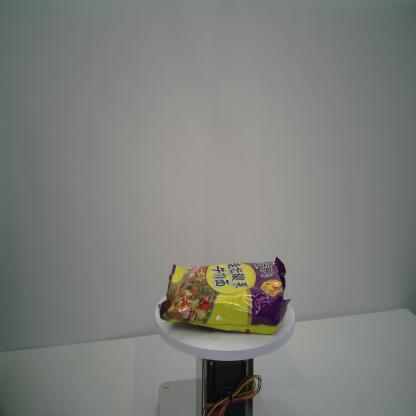Instant Noodles: (155, 257, 292, 339)
